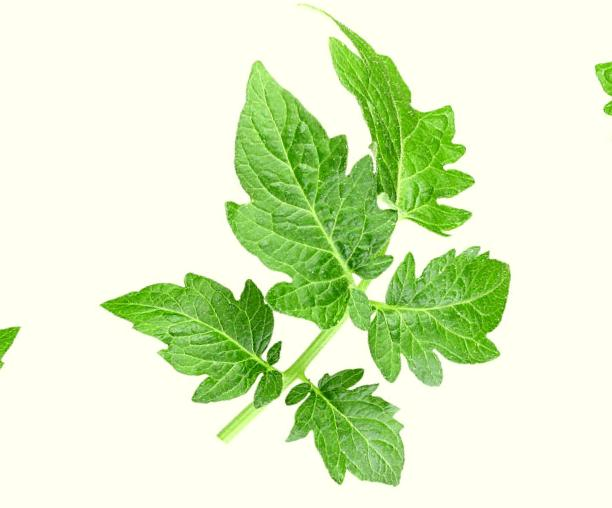Tomato leaf: (168, 33, 421, 353), (292, 0, 525, 280), (84, 233, 320, 444), (324, 214, 558, 401), (262, 353, 424, 508)
